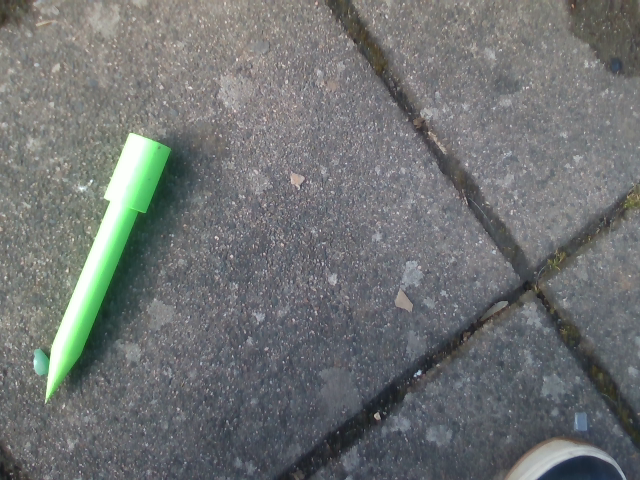Probe: (42, 122, 185, 408)
